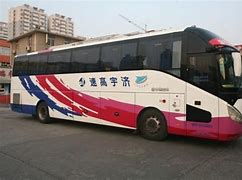bigcar: (9, 21, 241, 148)
